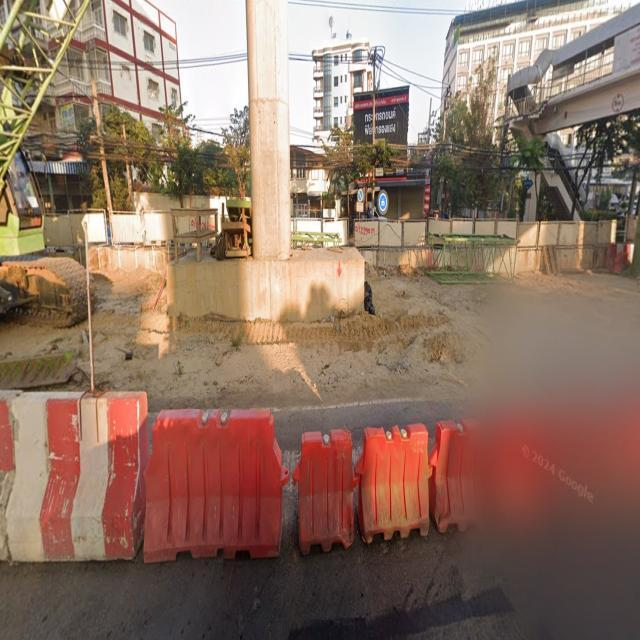fallen_object: (0, 373, 150, 576), (123, 405, 294, 582), (339, 407, 441, 566), (289, 422, 355, 564)
